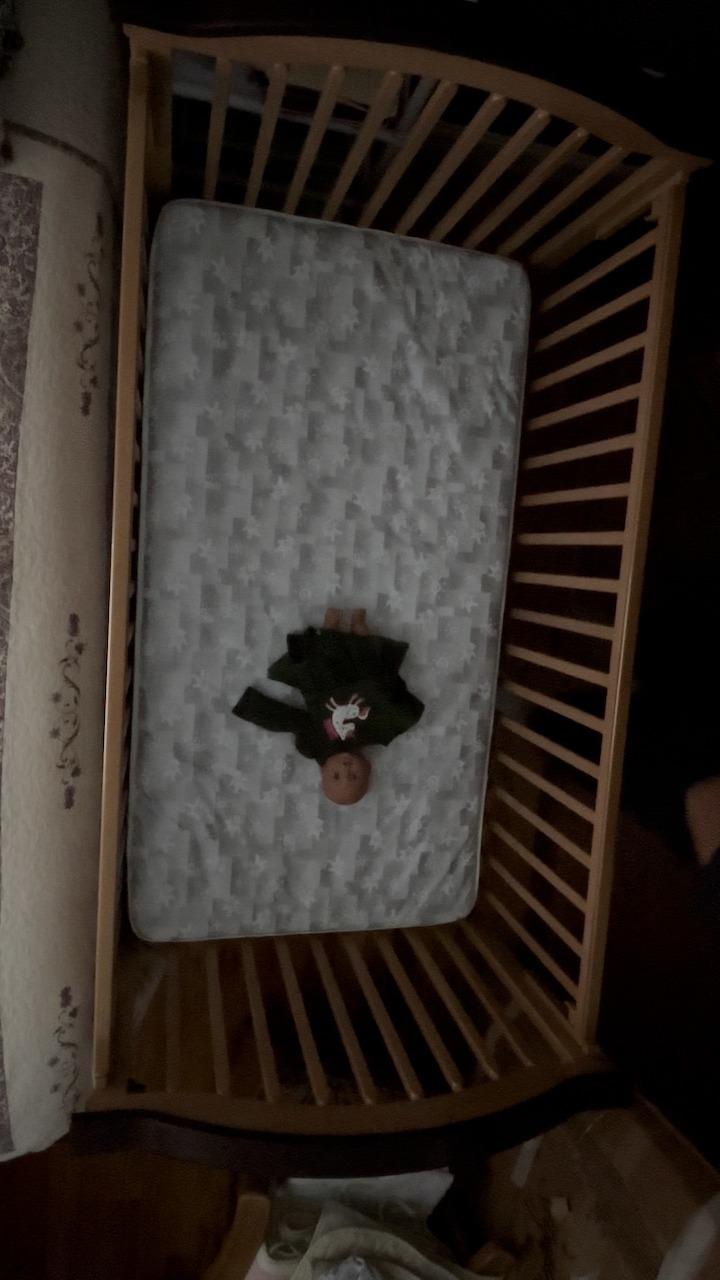baby: (275, 602, 408, 804)
